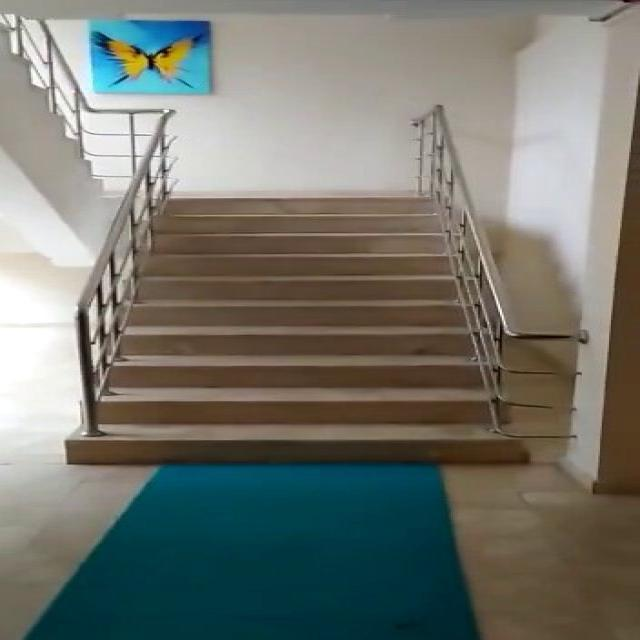stair: (117, 203, 510, 462)
